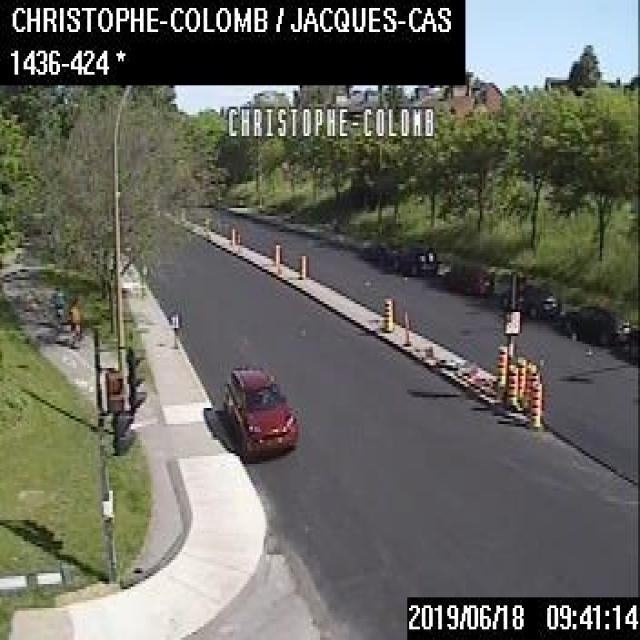construction: (522, 360, 536, 410), (526, 368, 540, 416), (503, 362, 517, 408), (528, 380, 541, 428), (493, 341, 506, 389), (380, 293, 393, 331), (514, 354, 524, 402), (298, 253, 305, 278), (273, 242, 280, 264), (230, 225, 236, 245)
pedestrian: (51, 283, 66, 337), (68, 294, 82, 348)
vehicle: (223, 363, 294, 456), (551, 304, 615, 342), (438, 259, 495, 295), (498, 281, 554, 317), (362, 237, 402, 273), (391, 242, 436, 274), (608, 321, 638, 361)
